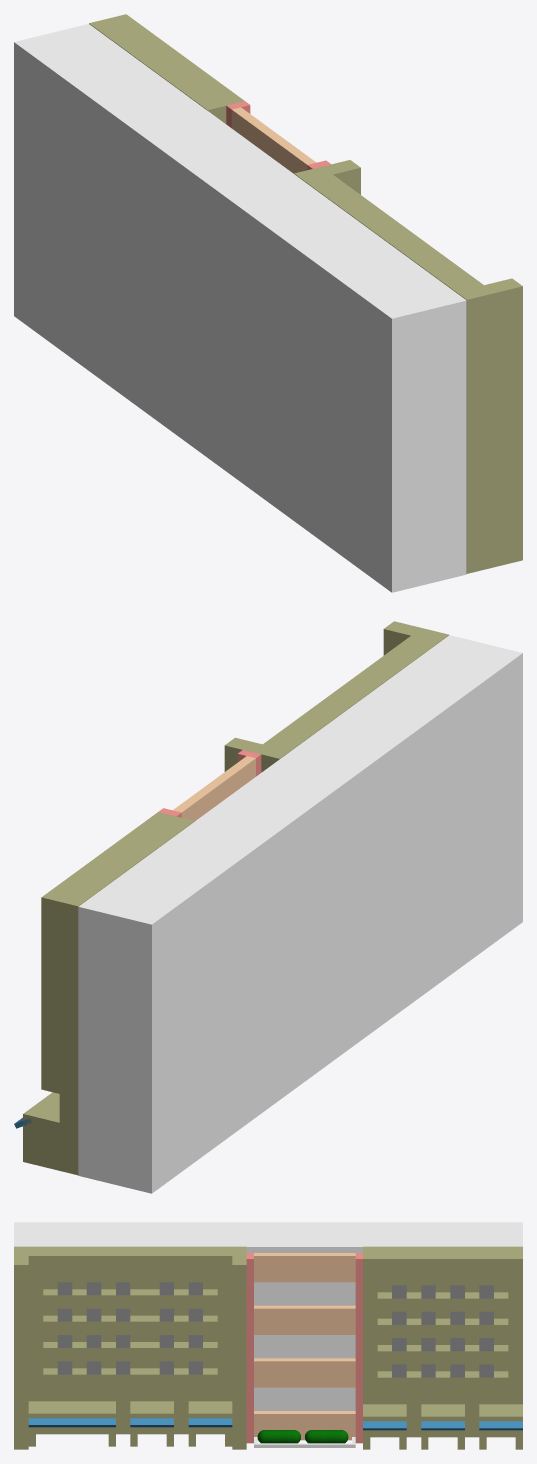
File: Buildings_Right.fbx
3 renders of one model, top to bottom at view 1: azimuth 30°, elevation 25°; view 2: azimuth 150°, elevation 25°; view 3: azimuth 270°, elevation 25°, orthographic. The views are drawn at different scales.
Visible parts, largest first — view 1: BuildingBack, BuildingBorder__19_, StallHouse, StallHouse__80_, BuildingBorder__13_, StallHouse__12_, StallHouse__68_, BuildingBorder__16_; view 2: BuildingBack, StallHouse, StallHouse__11_, StallHouse__80_, BuildingBorder__13_, StallHouse__12_, StallHouse__68_, StallHouse__6_, BuildingBorder__16_, StallHouse__5_, BuildingBorder__19_; view 3: BuildingBack, StallHouse__68_, StallHouse, StallHouse__80_, StallHouse__81_, StallHouse__83_, StallHouse__82_, StallHouse__84_, BuildingBorder__16_, BuildingBorder__19_, BuildingBorder__12_, BuildingBorder__11_ (+32 smaller).
Part boxes in pixels (<box>): BuildingBack: <box>14,24,466,592</box>; BuildingBorder__19_: <box>456,278,522,573</box>; StallHouse: <box>89,18,226,123</box>; StallHouse__80_: <box>325,182,472,281</box>; BuildingBorder__13_: <box>231,107,315,173</box>; StallHouse__12_: <box>119,22,233,97</box>; StallHouse__68_: <box>305,179,464,292</box>; BuildingBorder__16_: <box>294,160,360,194</box>; BuildingBack: <box>78,635,522,1193</box>; StallHouse: <box>59,816,194,1175</box>; StallHouse__11_: <box>41,889,69,1093</box>; StallHouse__80_: <box>273,643,418,740</box>; BuildingBorder__13_: <box>173,756,255,820</box>; StallHouse__12_: <box>52,819,165,893</box>; StallHouse__68_: <box>281,640,438,751</box>; StallHouse__6_: <box>23,1124,59,1170</box>; BuildingBorder__16_: <box>224,737,290,772</box>; StallHouse__5_: <box>23,1092,59,1132</box>; BuildingBorder__19_: <box>383,621,448,655</box>; BuildingBack: <box>14,1222,522,1410</box>; StallHouse__68_: <box>28,1246,232,1434</box>; StallHouse: <box>363,1246,522,1437</box>; StallHouse__80_: <box>43,1249,217,1268</box>; StallHouse__81_: <box>43,1368,217,1387</box>; StallHouse__83_: <box>43,1315,217,1334</box>; StallHouse__82_: <box>43,1342,217,1361</box>; StallHouse__84_: <box>43,1289,217,1308</box>; BuildingBorder__16_: <box>232,1246,246,1449</box>; BuildingBorder__19_: <box>14,1246,28,1449</box>; BuildingBorder__12_: <box>254,1305,355,1334</box>; BuildingBorder__11_: <box>254,1358,355,1387</box>.
Size of the model in its own units: 750 by 1402 by 3501.
